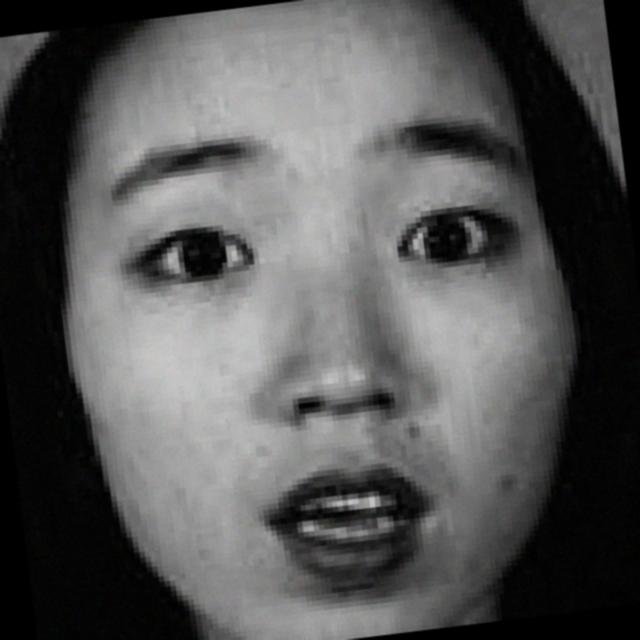surprise: (54, 0, 608, 640)
